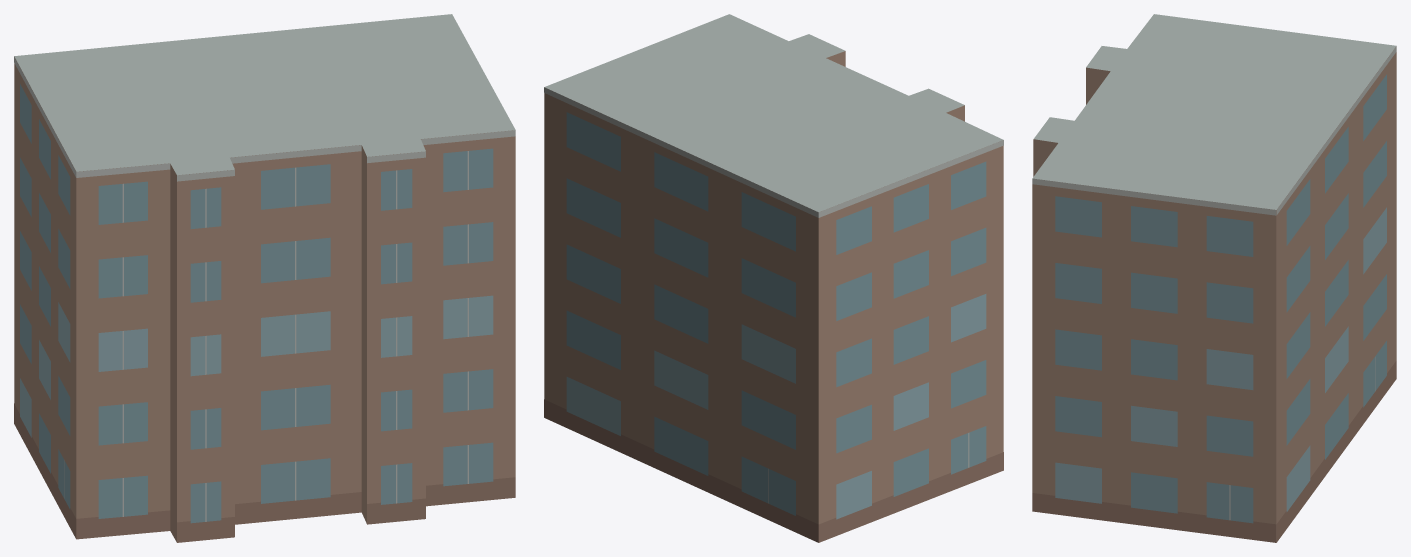
File: survey-upis-32877797.glb
3 renders of one model, left to right at view 1: azimuth 30°, elevation 25°; view 2: azimuth 150°, elevation 25°; view 3: azimuth 270°, elevation 25°, orthographic. The views are drawn at different scales.
Parts seen in each view (by area): view 1: survey-upis-32877797.tmp; view 2: survey-upis-32877797.tmp; view 3: survey-upis-32877797.tmp.
Part boxes in pixels (x1,y1,x2,y2): survey-upis-32877797.tmp: (14,14,515,542); survey-upis-32877797.tmp: (544,14,1003,542); survey-upis-32877797.tmp: (1032,14,1396,542).
Bounding box in the file's own units: 18 × 14.25 × 14.15.
